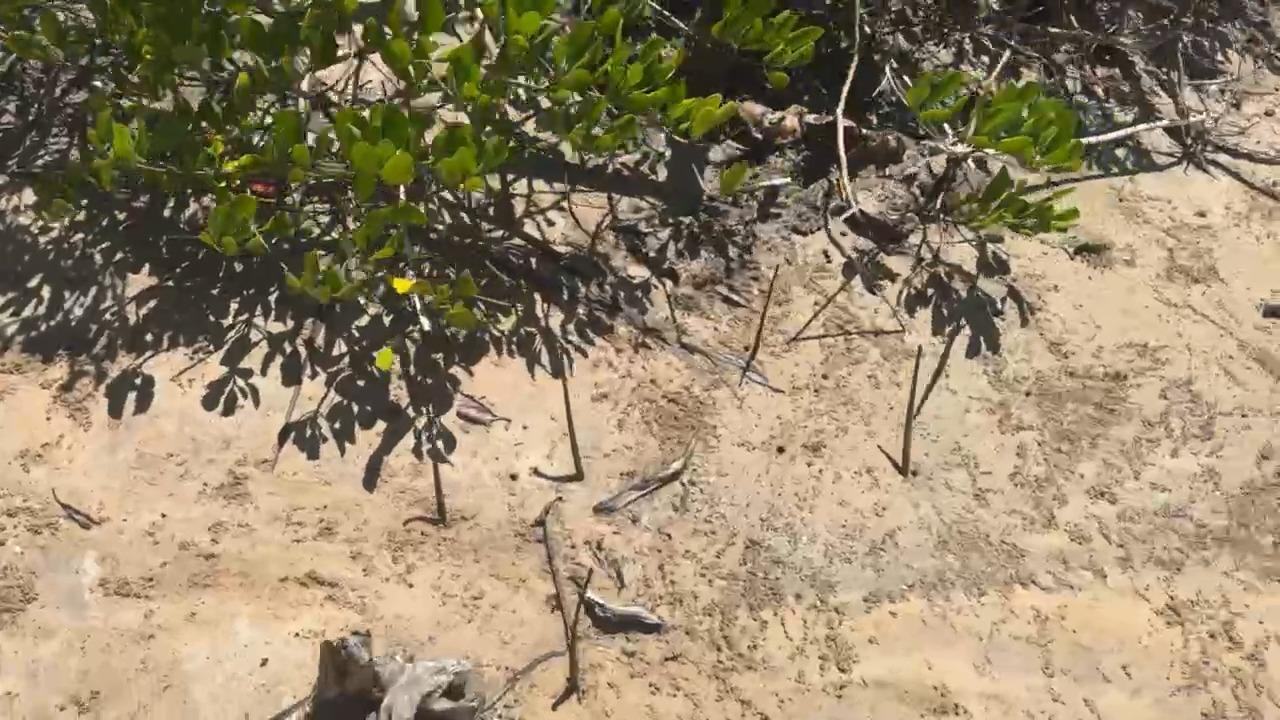Tree: (833, 241, 908, 333), (556, 353, 585, 483), (567, 567, 595, 690), (900, 343, 924, 478), (422, 396, 447, 522), (751, 264, 781, 364)
